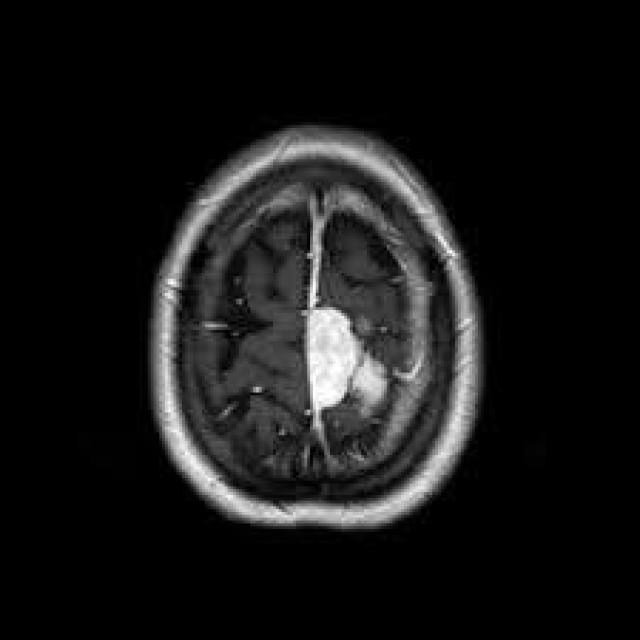Tumor: (307, 302, 390, 418)
